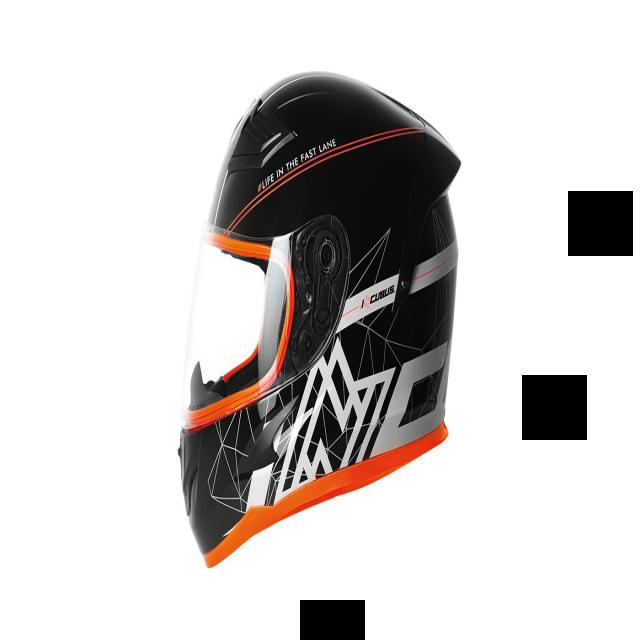Helmet: (180, 73, 460, 566)
